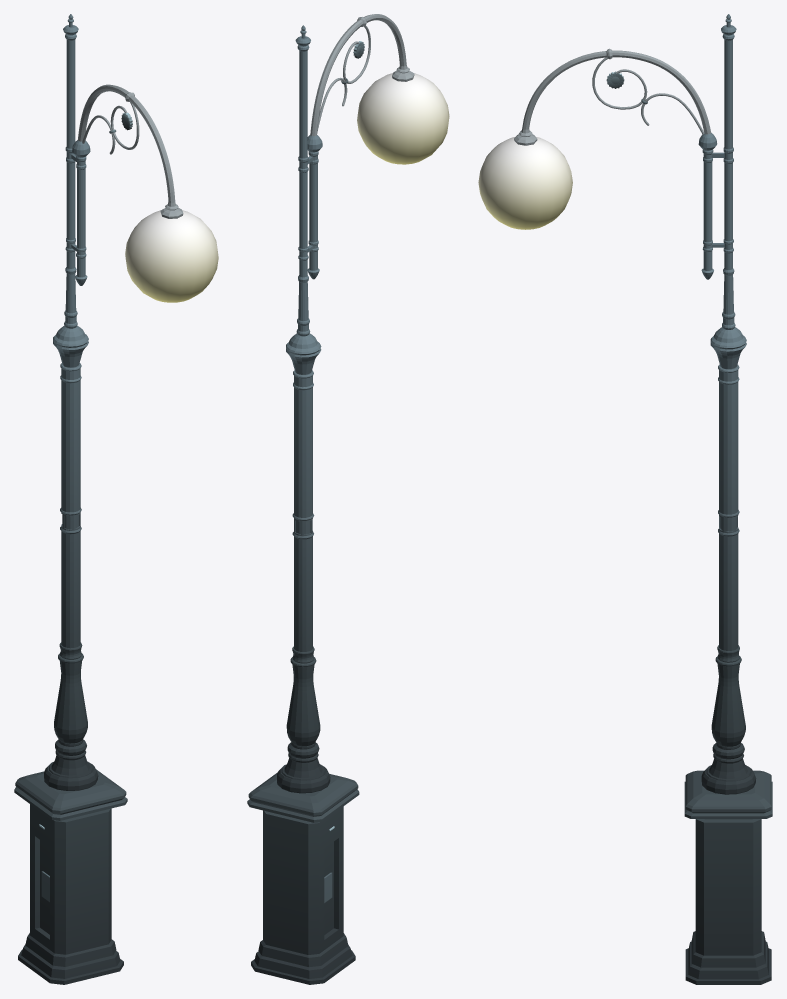
Rendered from Lamp_OneSided_Round.fbx.
The picture shows the model from 3 angles, left to right: view 1: azimuth 30°, elevation 25°; view 2: azimuth 150°, elevation 25°; view 3: azimuth 270°, elevation 25°; orthographic projection.
Parts seen in each view (by area): view 1: Cube.066; view 2: Cube.066; view 3: Cube.066.
Part boxes in pixels (<box>): Cube.066: <box>14,14,218,984</box>; Cube.066: <box>247,14,449,984</box>; Cube.066: <box>478,14,772,984</box>.
Size of the model in its own units: 76.59 by 852 by 238.
